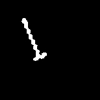half_double_crochet: (22, 18, 46, 60)
